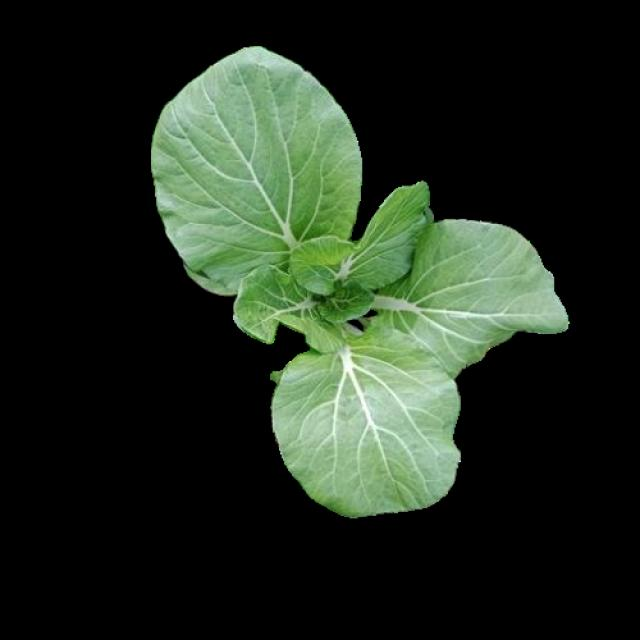healthy: (151, 45, 567, 511)
mature: (153, 48, 570, 514)
